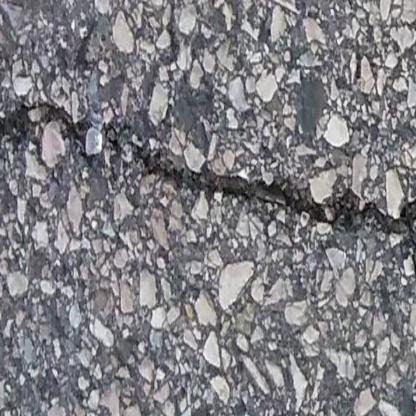Cracks: (0, 97, 416, 330)
